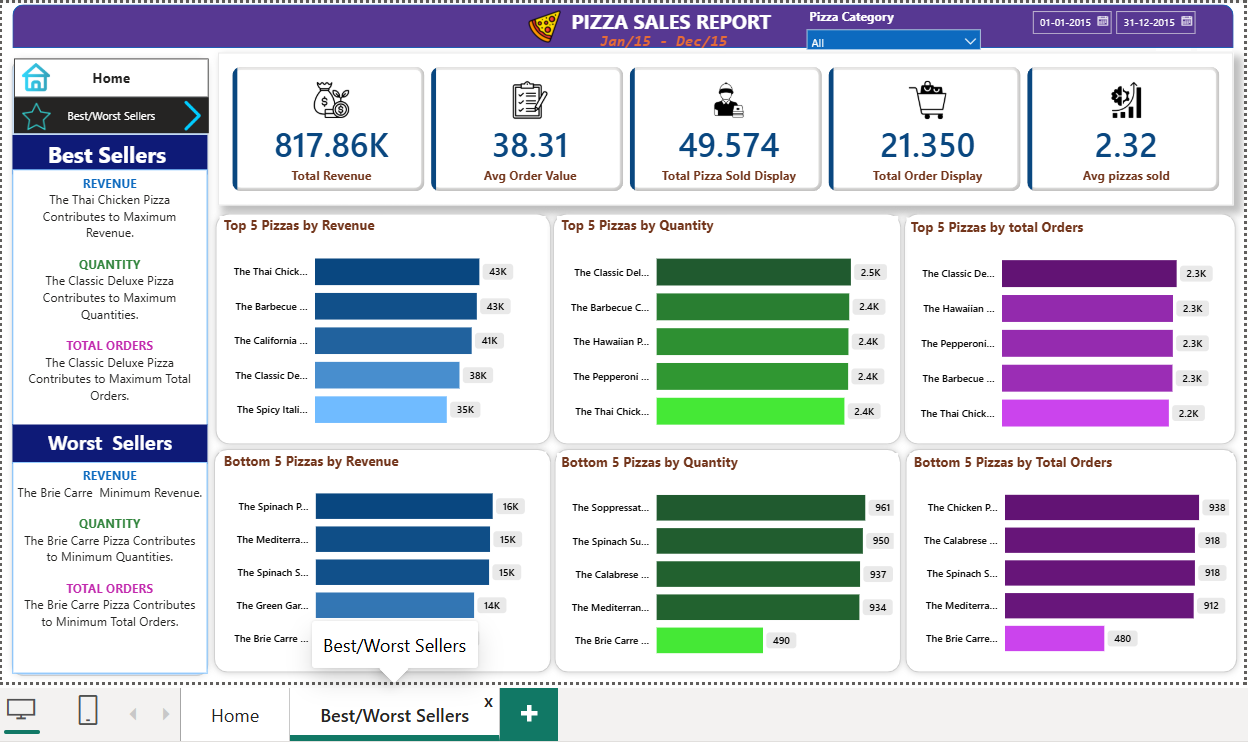

This screenshot's page, from the dashboard's own definition file:
{"tool":"powerbi","page":{"name":"Best/Worst Sellers","canvas":[1500,820],"ordinal":1},"visuals":[{"type":"shape","box":[3.6,59.8,253.6,760.8],"z":0},{"type":"cardVisual","fields":{"Data":["pizza_sales.Total Revenue","pizza_sales.Avg Order Value","pizza_sales.Total Pizza Sold Display","pizza_sales.Total Order Display","pizza_sales.Avg pizzas sold"]},"box":[260.9,59.8,1226.4,184.8],"z":1000},{"type":"shape","box":[12.7,1.8,1474.6,52.5],"z":2000},{"type":"textbox","box":[688.3,28.3,221.7,33.3],"z":3000},{"type":"textbox","box":[12.7,159.4,235.5,47.1],"z":4000},{"type":"image","box":[616.7,8.3,78.3,38.3],"z":5000},{"type":"shape","box":[250.2,245.8,420.8,294.5],"z":6000},{"type":"textbox","box":[643.3,0,330,43.3],"z":7000},{"type":"textbox","box":[12.7,201.1,235.5,309.8],"z":8000},{"type":"textbox","box":[12.7,509,235.5,47.1],"z":9000},{"type":"textbox","box":[12.7,554.3,235.5,255.4],"z":10000},{"type":"slicer","fields":{"Values":["pizza_sales.pizza_category"]},"box":[961.9,0,230.1,56.2],"z":11000},{"type":"slicer","fields":{"Values":["pizza_sales.order_date"]},"box":[1231.8,0,222.8,67],"z":12000},{"type":"shape","box":[1080.7,245.8,416.3,294.5],"z":13000},{"type":"shape","box":[657.7,245.8,436.3,294.5],"z":14000},{"type":"shape","box":[248,531.5,423,285.7],"z":15000},{"type":"shape","box":[659.9,531.5,434.1,285.7],"z":16000},{"type":"shape","box":[1083.6,531.5,416.3,285.7],"z":17000},{"type":"barChart","title":"Top 5 Pizzas by Revenue ","fields":{"Y":["pizza_sales.Total Revenue"],"Category":["pizza_sales.pizza_name"]},"box":[263.5,256.9,394.2,272.4],"z":18000},{"type":"barChart","title":"Bottom 5 Pizzas by Revenue ","fields":{"Y":["pizza_sales.Total Revenue"],"Category":["pizza_sales.pizza_name"]},"box":[262.7,541.6,394.9,262.7],"z":19000},{"type":"barChart","title":"Top 5 Pizzas by Quantity","fields":{"Category":["pizza_sales.pizza_name"],"Y":["pizza_sales.Total pizzas sold"]},"box":[671,256.9,411.9,274.6],"z":20000},{"type":"barChart","title":"Bottom 5 Pizzas by Quantity","fields":{"Category":["pizza_sales.pizza_name"],"Y":["pizza_sales.Total pizzas sold"]},"box":[671,542.6,411.9,263.5],"z":21000},{"type":"barChart","title":"Top 5 Pizzas by total Orders","fields":{"Category":["pizza_sales.pizza_name"],"Y":["pizza_sales.Total order"]},"box":[1093.1,258.7,391.7,275.1],"z":22000},{"type":"barChart","title":"Bottom 5 Pizzas by Total Orders ","fields":{"Category":["pizza_sales.pizza_name"],"Y":["pizza_sales.Total order"]},"box":[1096,543.5,391.3,260.9],"z":23000},{"type":"pageNavigator","box":[14.5,67,235.5,47.1],"z":23001},{"type":"pageNavigator","box":[14.5,114.1,235.5,43.5],"z":23002},{"type":"image","box":[16.3,119.6,50.7,34.4],"z":23003},{"type":"image","box":[9.1,67,63.4,45.3],"z":23004},{"type":"image","box":[202.9,108.7,54.3,54.3],"z":23005}]}

Visuals, with their boxes on the page's 1500x820 design canvas (x1, y1, x2, y2). These are canvas units, not pixel positions in the 1248x742 screenshot, which may show the page scaled, cropped or inside an application window:
shape: (4,60,257,821)
cardVisual - pizza_sales.Total Revenue x pizza_sales.Avg Order Value: (261,60,1487,245)
shape: (13,2,1487,54)
textbox: (688,28,910,62)
textbox: (13,159,248,206)
image: (617,8,695,47)
shape: (250,246,671,540)
textbox: (643,0,973,43)
textbox: (13,201,248,511)
textbox: (13,509,248,556)
textbox: (13,554,248,810)
slicer - pizza_sales.pizza_category: (962,0,1192,56)
slicer - pizza_sales.order_date: (1232,0,1455,67)
shape: (1081,246,1497,540)
shape: (658,246,1094,540)
shape: (248,532,671,817)
shape: (660,532,1094,817)
shape: (1084,532,1500,817)
"Top 5 Pizzas by Revenue " barChart: (264,257,658,529)
"Bottom 5 Pizzas by Revenue " barChart: (263,542,658,804)
"Top 5 Pizzas by Quantity" barChart: (671,257,1083,532)
"Bottom 5 Pizzas by Quantity" barChart: (671,543,1083,806)
"Top 5 Pizzas by total Orders" barChart: (1093,259,1485,534)
"Bottom 5 Pizzas by Total Orders " barChart: (1096,544,1487,804)
pageNavigator: (14,67,250,114)
pageNavigator: (14,114,250,158)
image: (16,120,67,154)
image: (9,67,72,112)
image: (203,109,257,163)
